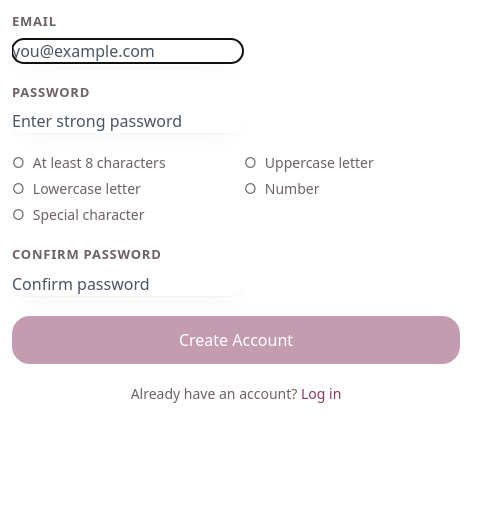
Test: RegistrationForm › shows backend registration errors without labeling them as password mismatches
Type "shopper@example.com" into the field labelled "Email" at [128, 51], box x1=12 y1=39 x2=243 y2=63
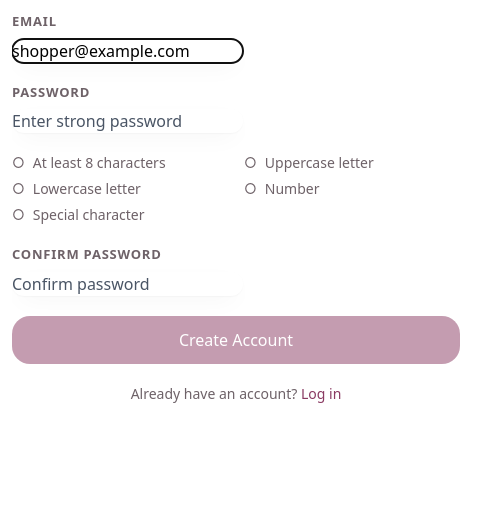
Type "ShopperPassword2026!" into the password field labelled "Password" at [128, 121], box x1=12 y1=109 x2=243 y2=133
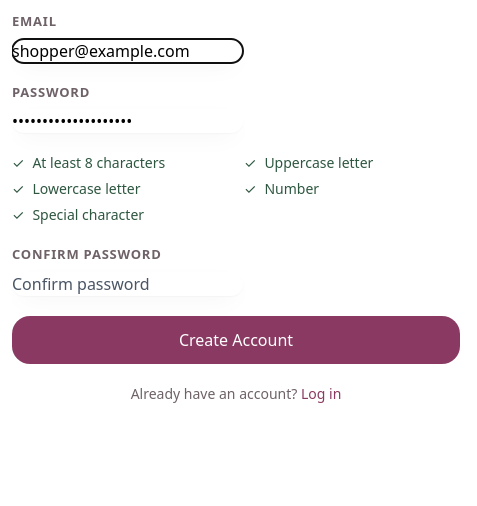
Type "ShopperPassword2026!" into the password field labelled "Confirm Password" at [128, 284], box x1=12 y1=272 x2=243 y2=296
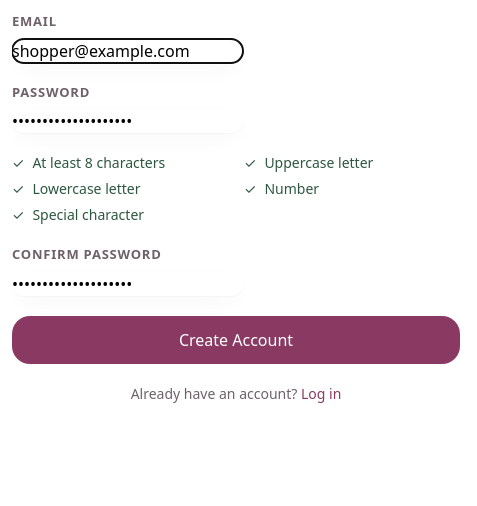
Click the button "Create Account" at [236, 340], box x1=12 y1=316 x2=460 y2=364
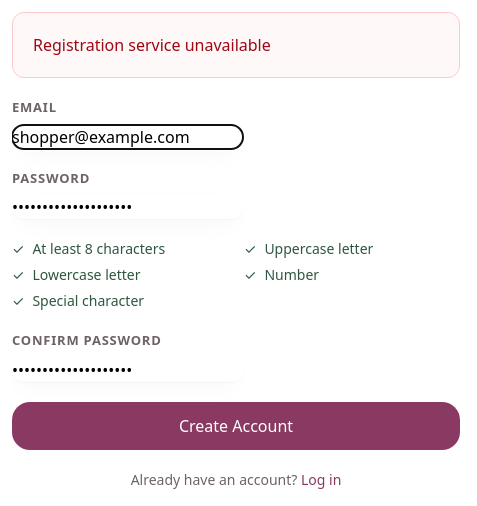
Check: the text "Registration service unavailable" is shown, box x1=12 y1=12 x2=460 y2=78
